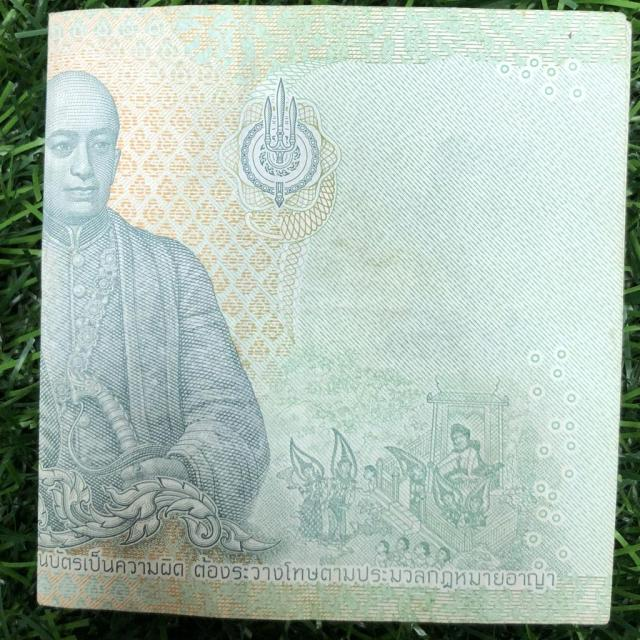THAI20: (34, 4, 633, 636)
